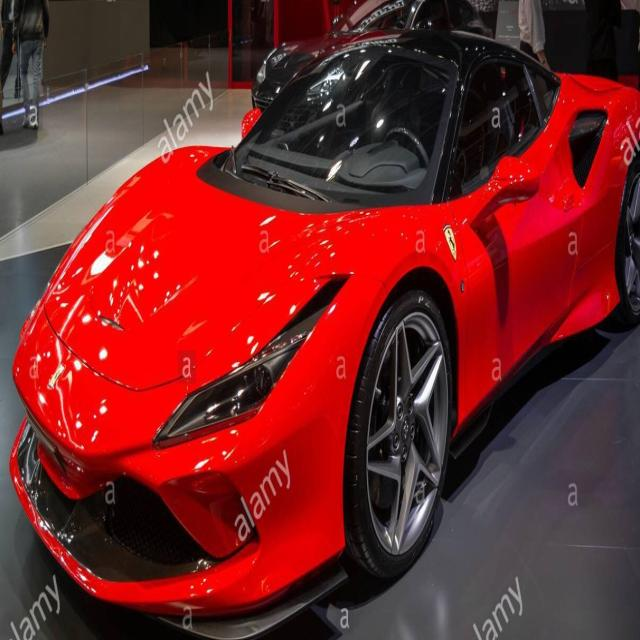red: (13, 14, 640, 622)
